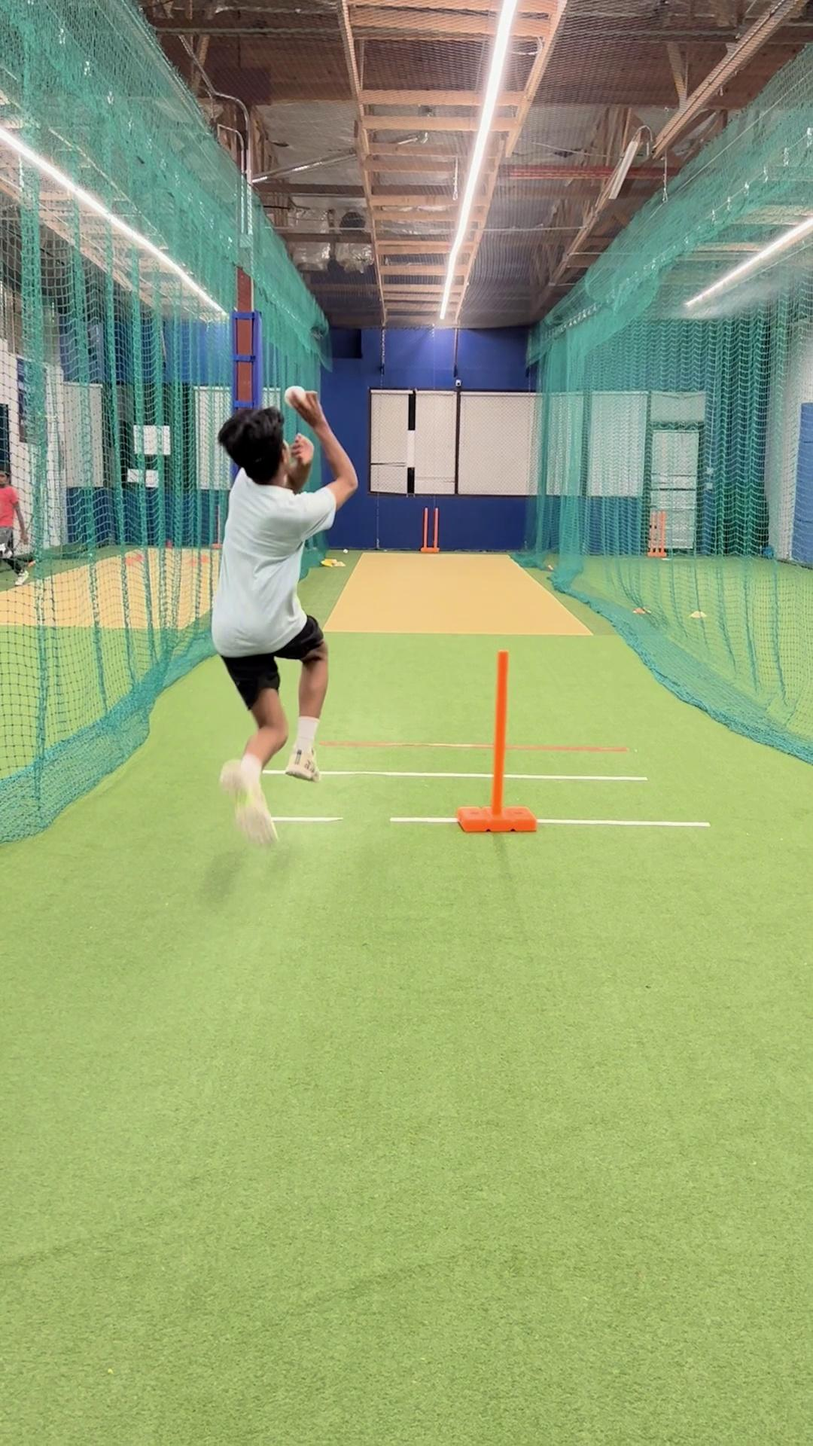ball: (275, 378, 314, 413)
